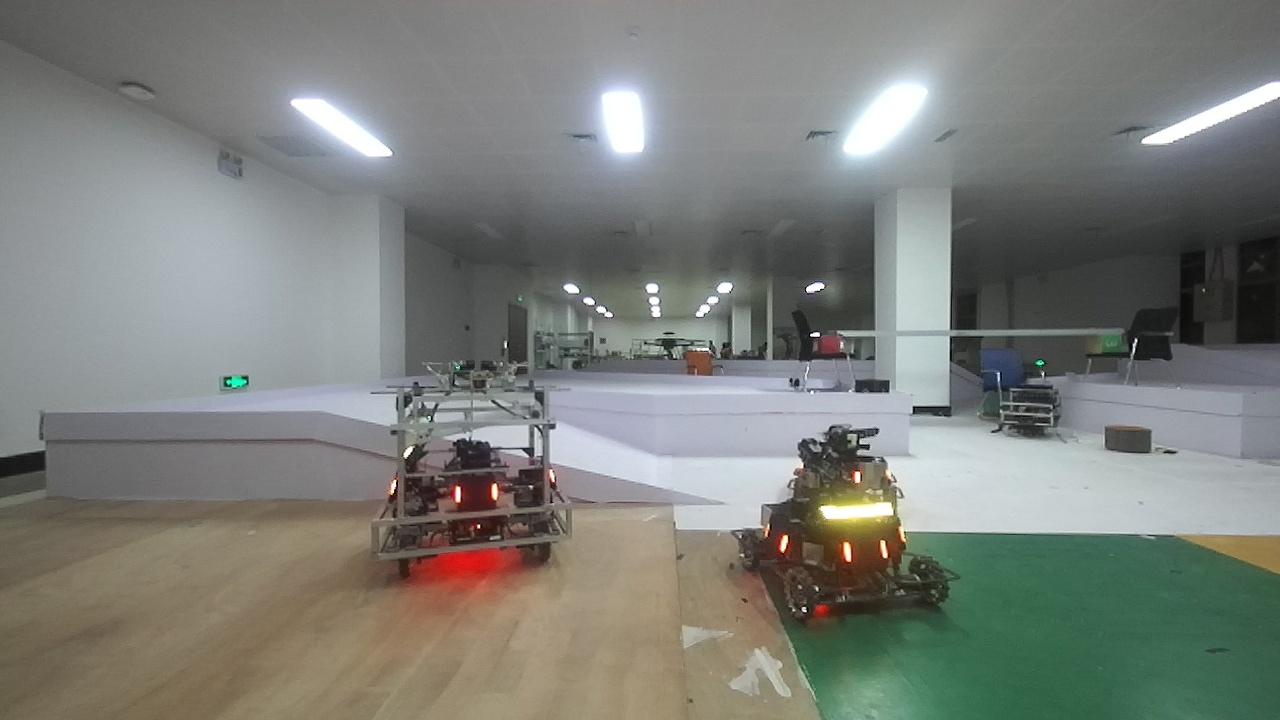car: (365, 364, 577, 584), (738, 420, 955, 627)
